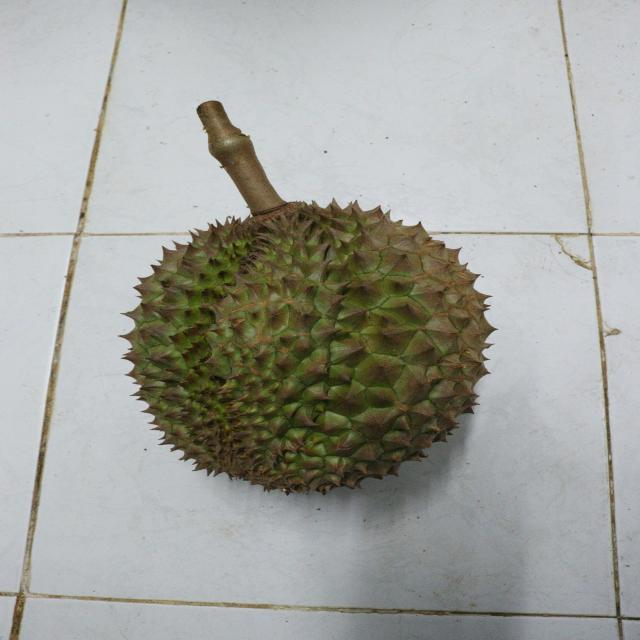mature: (119, 191, 500, 495)
